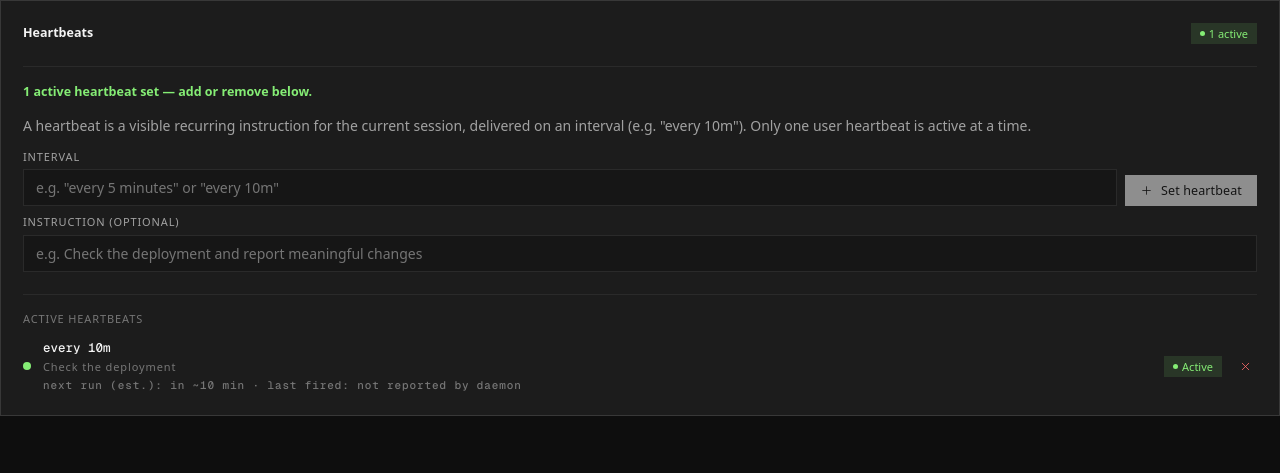
HeartbeatsPanel › removes a heartbeat via removeHeartbeat
Click the button named "remove heartbeat".
click(1246, 366)  # box [1234,355,1257,378]
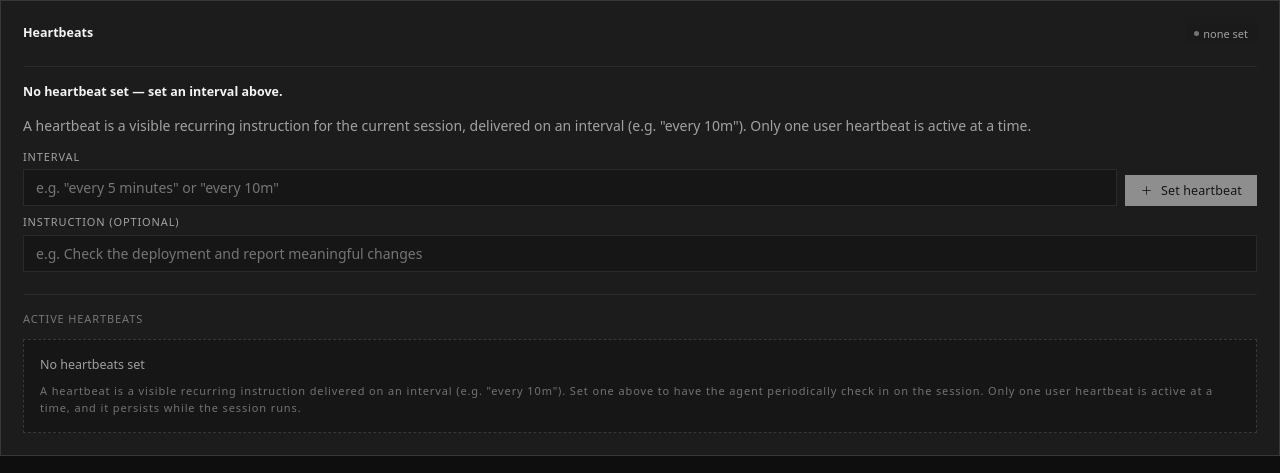
Result: the text "No heartbeats set" is shown at [40,356,145,373]
